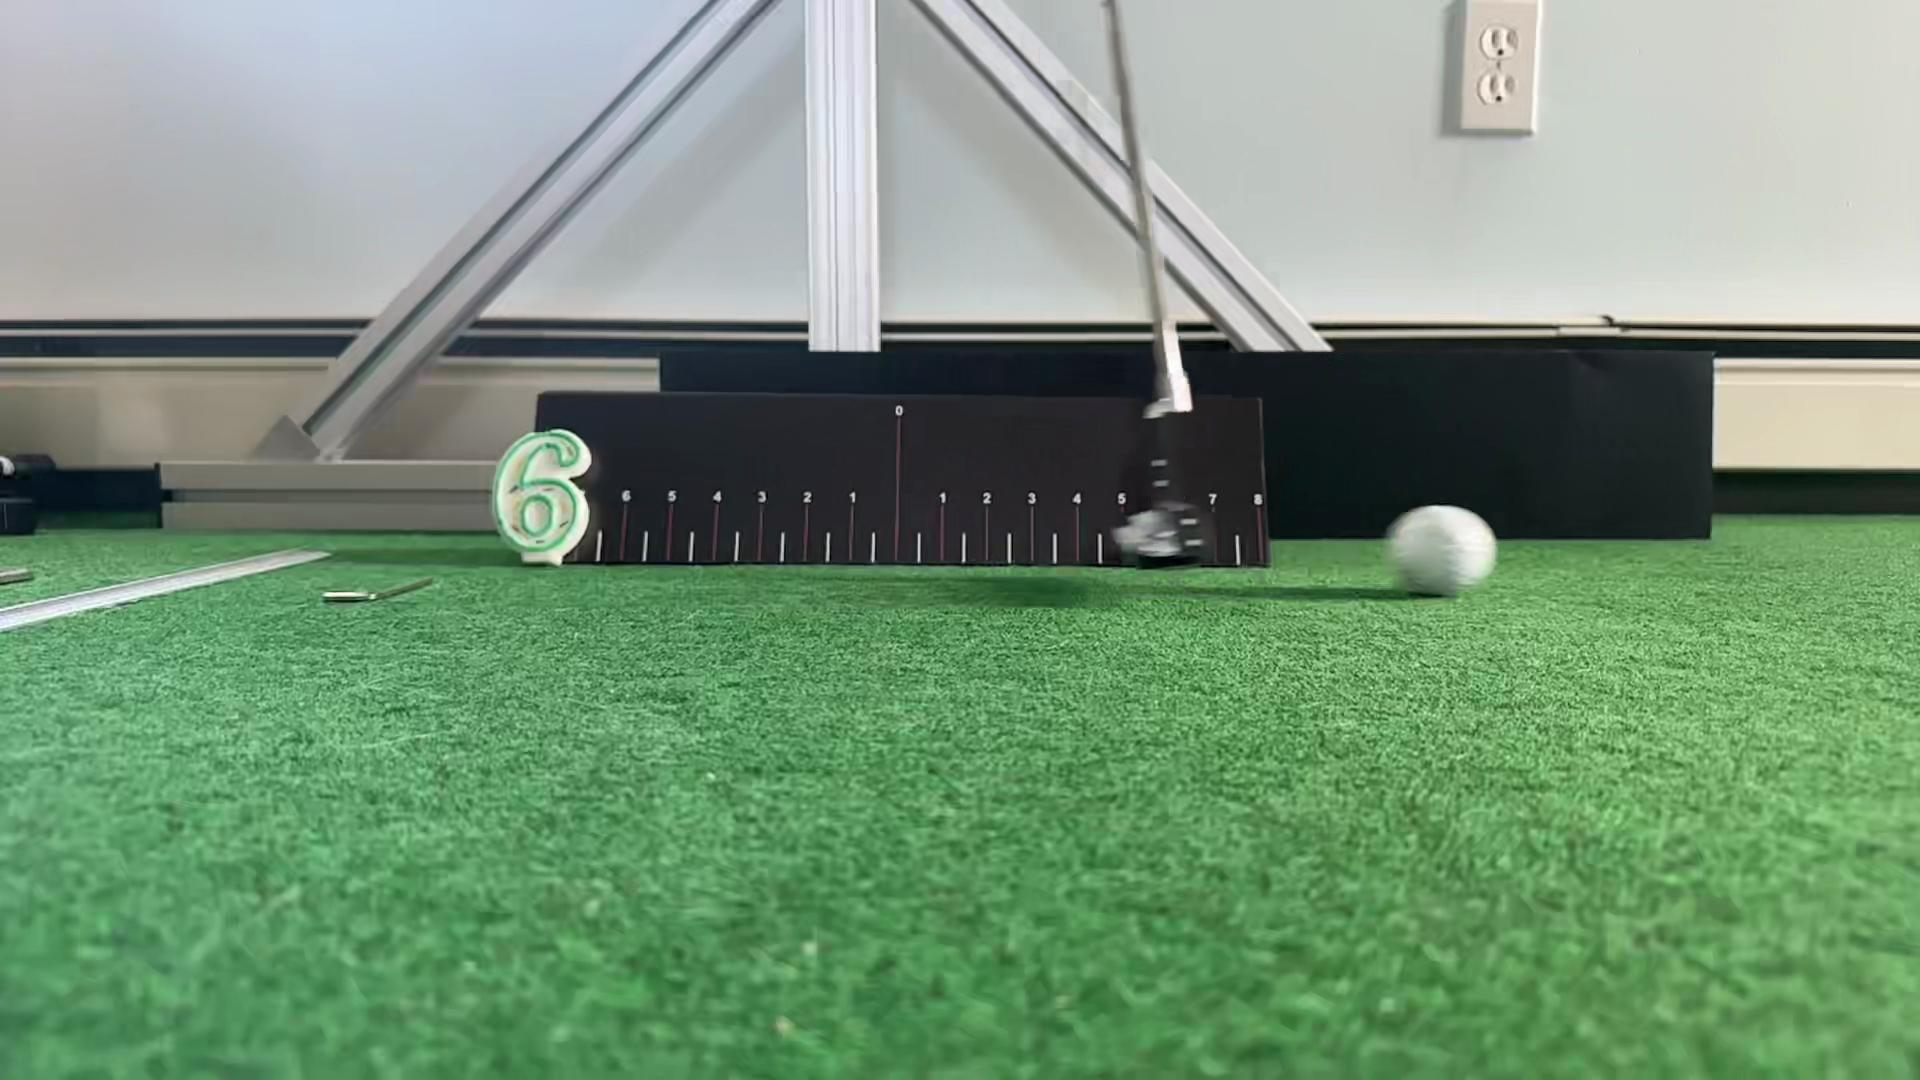golfball: (1389, 505, 1497, 597)
